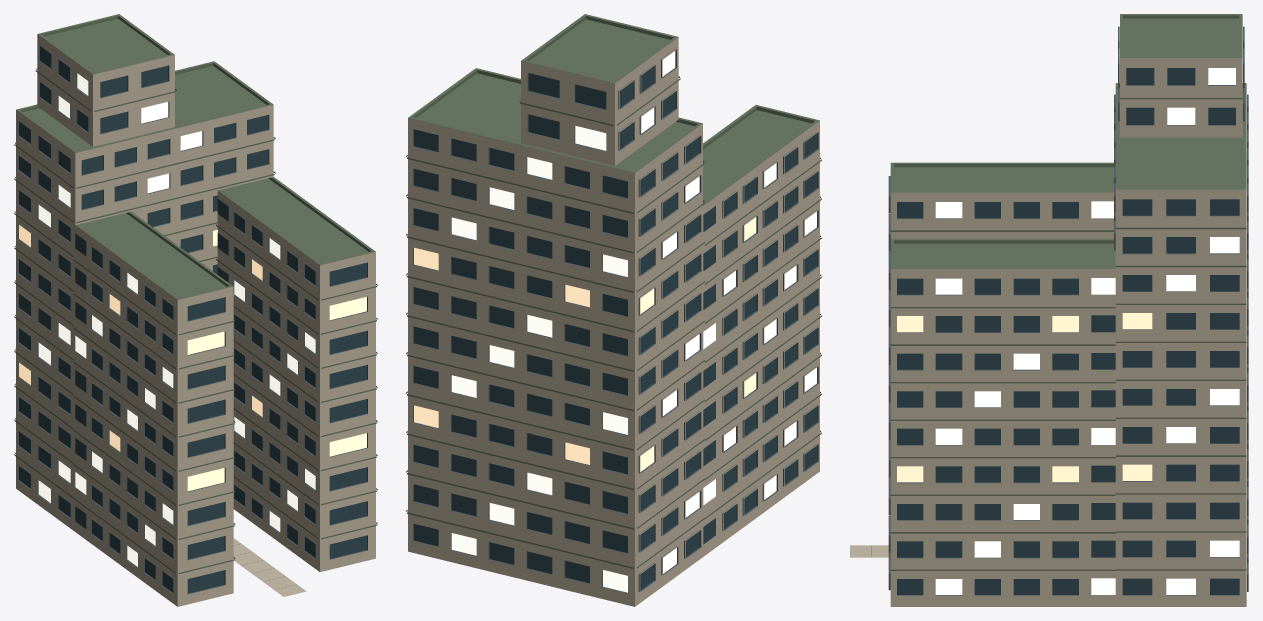
Rendered from city-block-residential.glb.
3 views of the same model, side by side, from view 1: azimuth 30°, elevation 25°; view 2: azimuth 150°, elevation 25°; view 3: azimuth 270°, elevation 25° (orthographic). The views are drawn at different scales.
Visible parts, largest first — view 1: residential_lod0; view 2: residential_lod0; view 3: residential_lod0.
Boxes of the visible parts, x1,y1,x2,y2 form: residential_lod0: (14, 14, 377, 606); residential_lod0: (406, 14, 821, 606); residential_lod0: (850, 14, 1248, 606).
Size of what is drawn, in the model's own units: 21 by 44.87 by 32.65.
5 materials, 1 textured.
